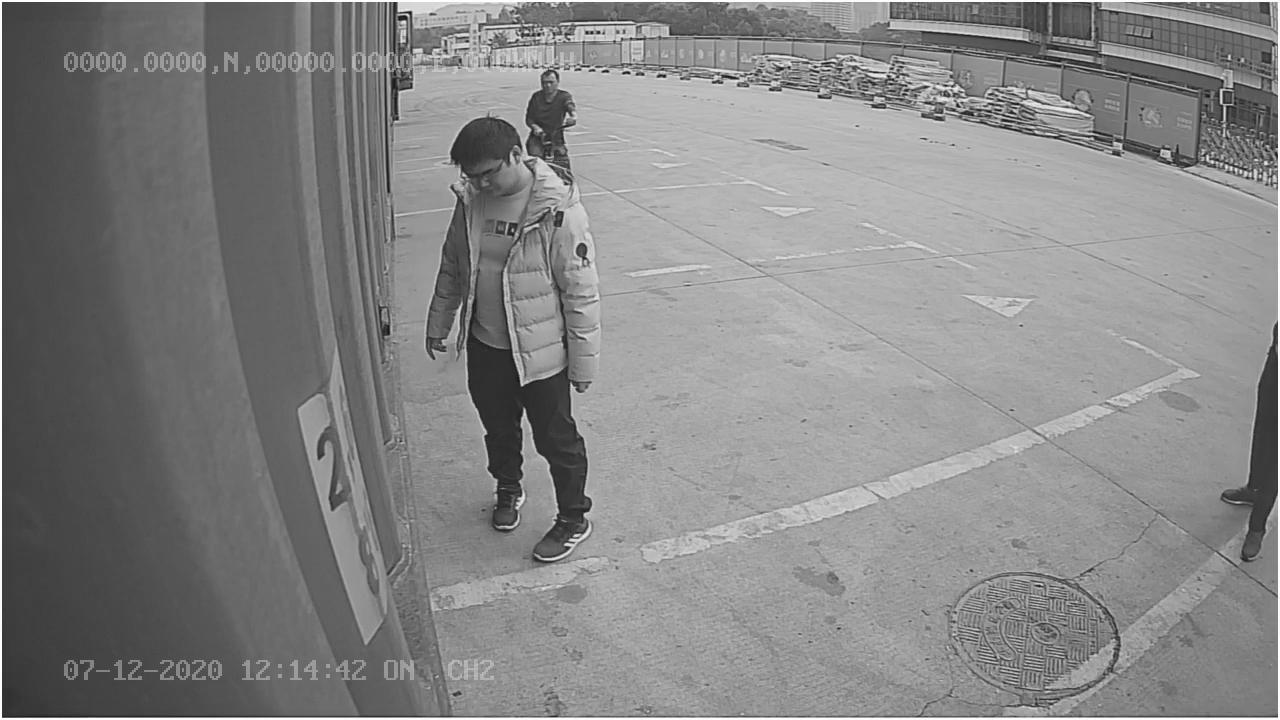person: (425, 120, 607, 563)
